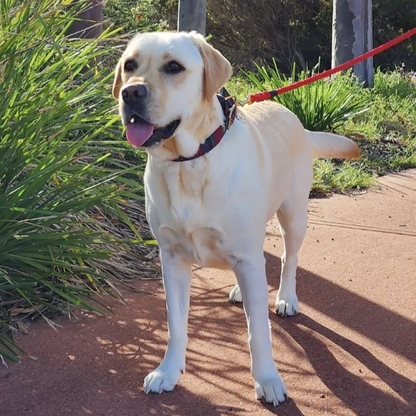labrado: (109, 26, 367, 416)
